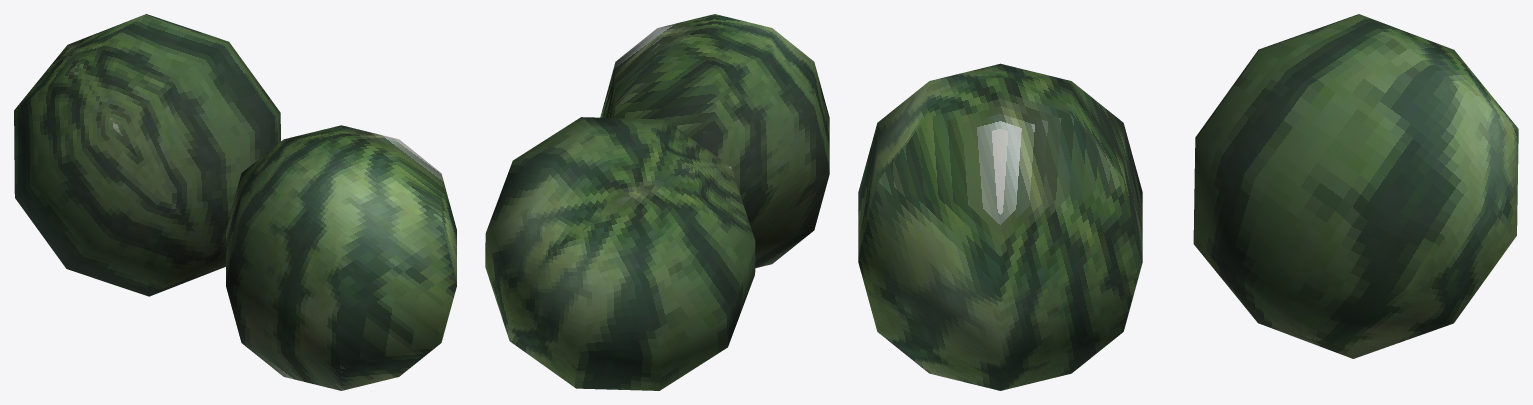
File: fruit.fbx
3 views of the same model, side by side, from view 1: azimuth 30°, elevation 25°; view 2: azimuth 150°, elevation 25°; view 3: azimuth 270°, elevation 25° (orthographic). The views are drawn at different scales.
Visible parts, largest first — view 1: Object017, pSphere1; view 2: Object017, pSphere1; view 3: Object017, pSphere1.
Boxes of the visible parts, bbox=[...] form: Object017: bbox=[14, 14, 280, 296]; pSphere1: bbox=[226, 125, 456, 390]; Object017: bbox=[485, 117, 755, 390]; pSphere1: bbox=[600, 14, 829, 268]; Object017: bbox=[1193, 14, 1518, 358]; pSphere1: bbox=[858, 63, 1142, 390].
Size of the model in its own units: 9.81 by 8.42 by 15.95.
